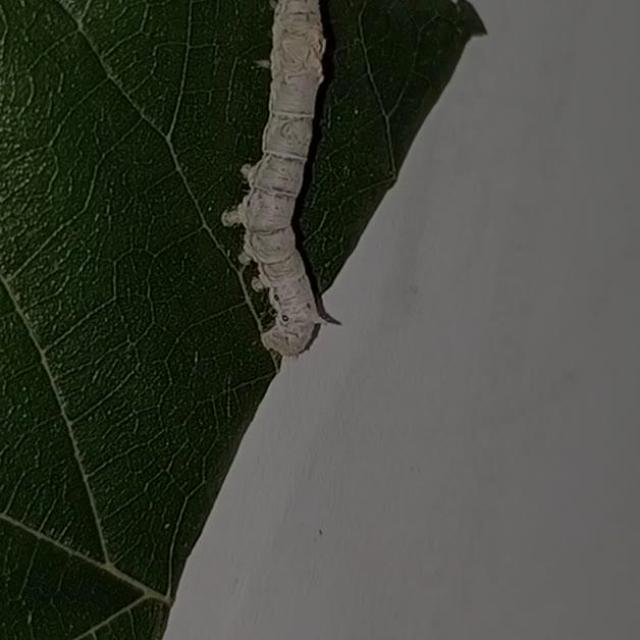Healthy: (214, 0, 358, 362)
